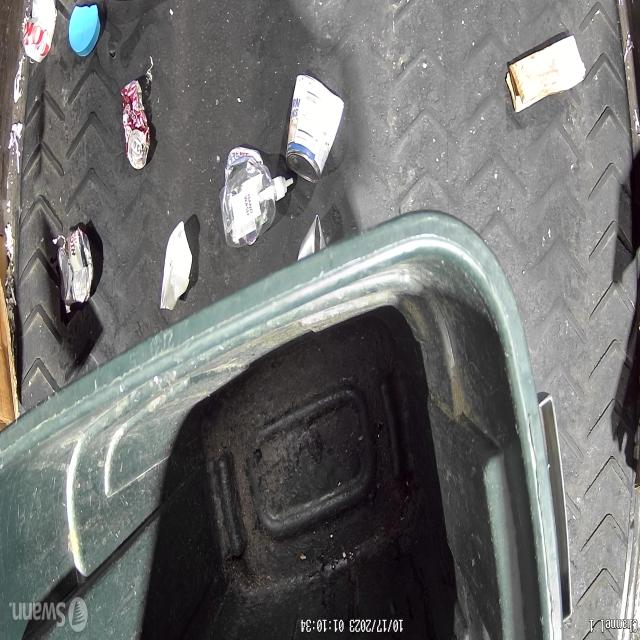can: (286, 75, 344, 184), (118, 78, 150, 170), (58, 227, 92, 305), (19, 0, 57, 66), (298, 215, 328, 258)
